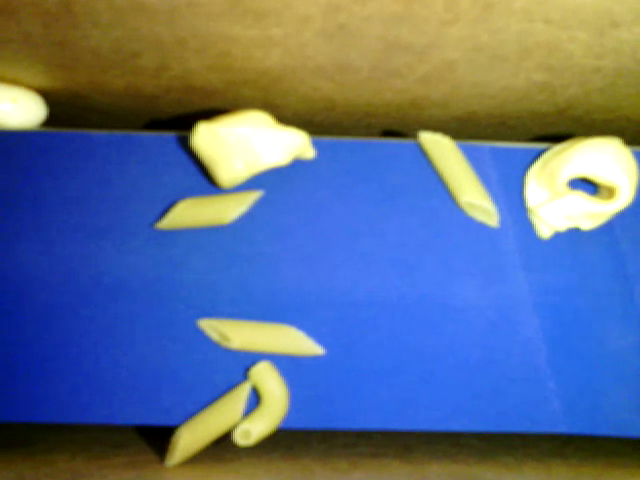elbow: (230, 359, 290, 447)
penne: (419, 129, 500, 227), (163, 379, 251, 468), (196, 317, 326, 356), (153, 188, 266, 230)
tortellini: (523, 134, 638, 239), (189, 109, 316, 190)
